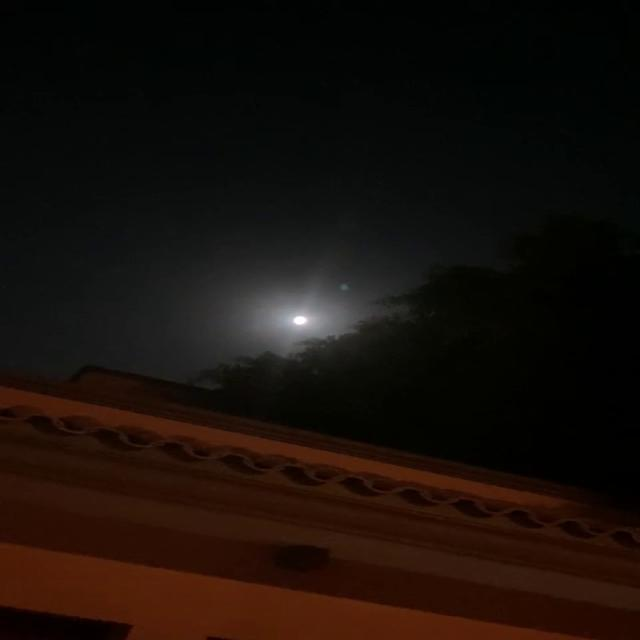moon: (273, 304, 328, 332)
